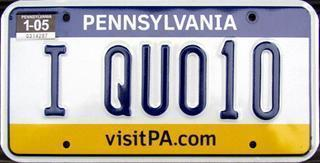placa de veiculo: (7, 5, 311, 156)
